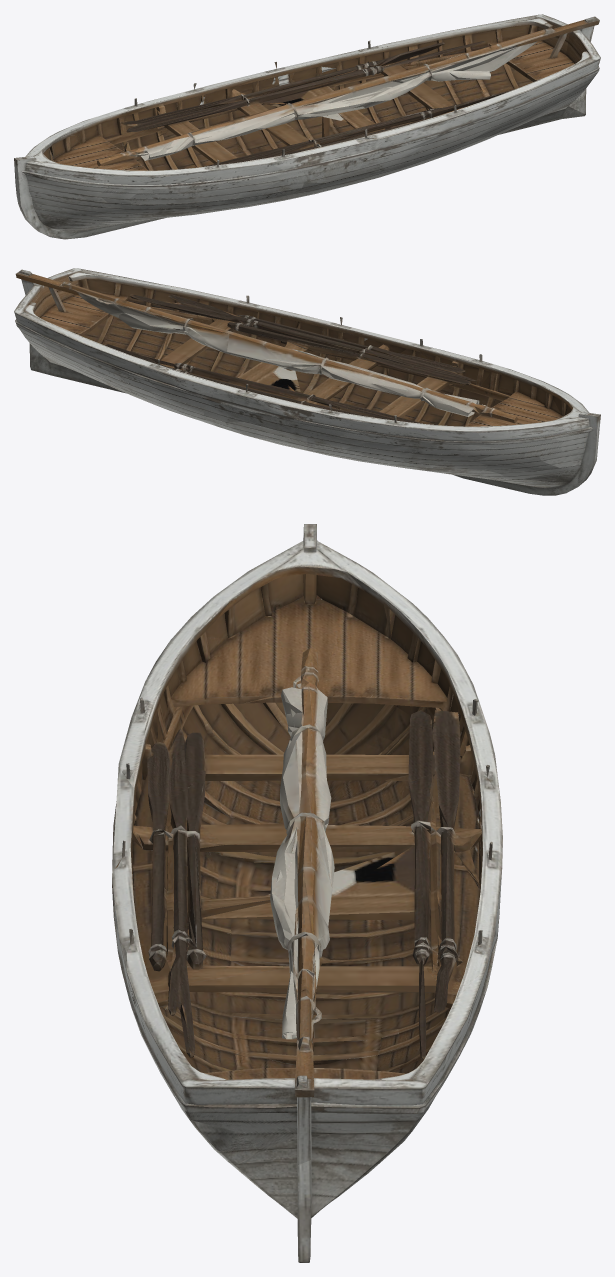
Rendered from launch.glb.
3 renders of one model, top to bottom at view 1: azimuth 30°, elevation 25°; view 2: azimuth 150°, elevation 25°; view 3: azimuth 270°, elevation 25°, orthographic. The views are drawn at different scales.
Visible parts, largest first — view 1: output_unwrapped; view 2: output_unwrapped; view 3: output_unwrapped.
Boxes of the visible parts, box(x1,y1,x2,y2) form: output_unwrapped: box(14, 14, 600, 239); output_unwrapped: box(14, 268, 600, 495); output_unwrapped: box(112, 524, 502, 1262).
Bounding box in the file's own units: 7.32 × 1.17 × 2.13.
1 material, 1 textured.
